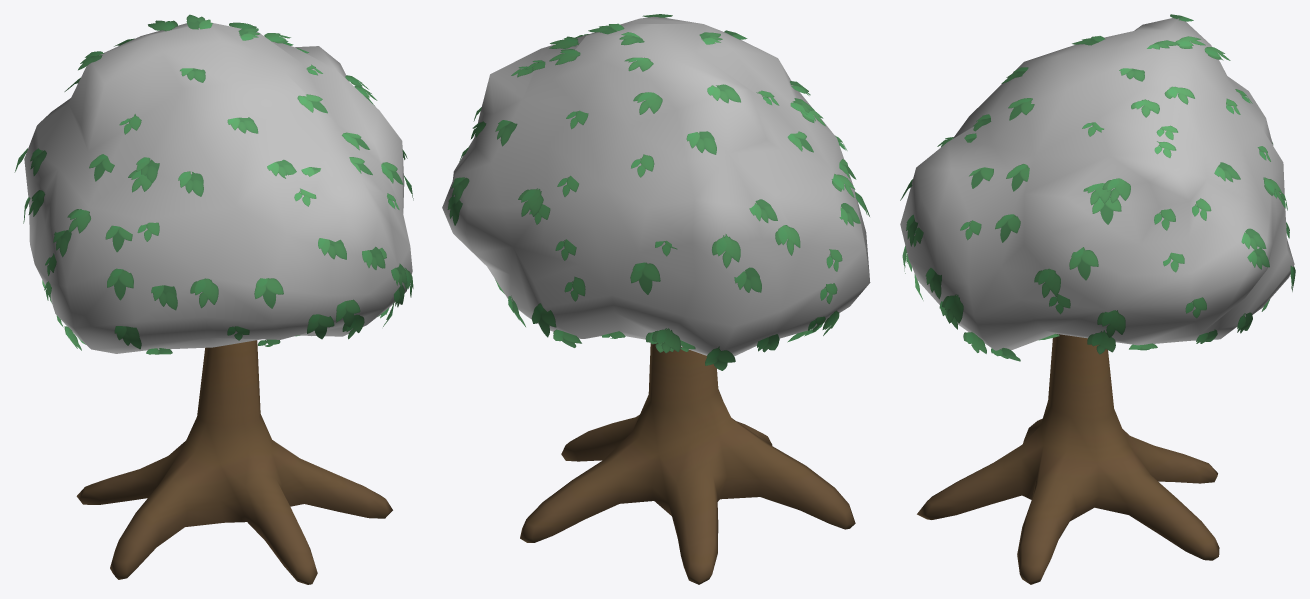
File: Tree2.fbx
3 renders of one model, left to right at view 1: azimuth 30°, elevation 25°; view 2: azimuth 150°, elevation 25°; view 3: azimuth 270°, elevation 25°, orthographic. The views are drawn at different scales.
Parts seen in each view (by area): view 1: LOD2_copy2, Cylinder.004, Leaf.212; view 2: LOD2_copy2, Cylinder.004, Leaf.212; view 3: LOD2_copy2, Cylinder.004, Leaf.212.
Boxes of the visible parts, x1=… form: LOD2_copy2: x1=24, y1=22, x2=412, y2=353; Cylinder.004: x1=76, y1=340, x2=392, y2=584; Leaf.212: x1=14, y1=14, x2=413, y2=354; LOD2_copy2: x1=442, y1=16, x2=870, y2=356; Cylinder.004: x1=520, y1=343, x2=855, y2=584; Leaf.212: x1=447, y1=14, x2=869, y2=370; LOD2_copy2: x1=900, y1=18, x2=1294, y2=350; Cylinder.004: x1=917, y1=334, x2=1219, y2=584; Leaf.212: x1=900, y1=14, x2=1295, y2=361.
Size of the model in its own units: 472 by 623 by 466.
